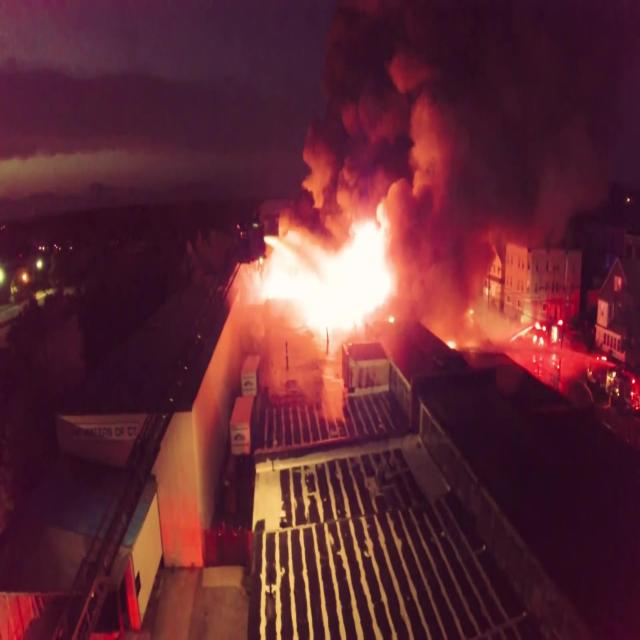Fire: (266, 206, 393, 336)
Smoke: (322, 0, 628, 240)
